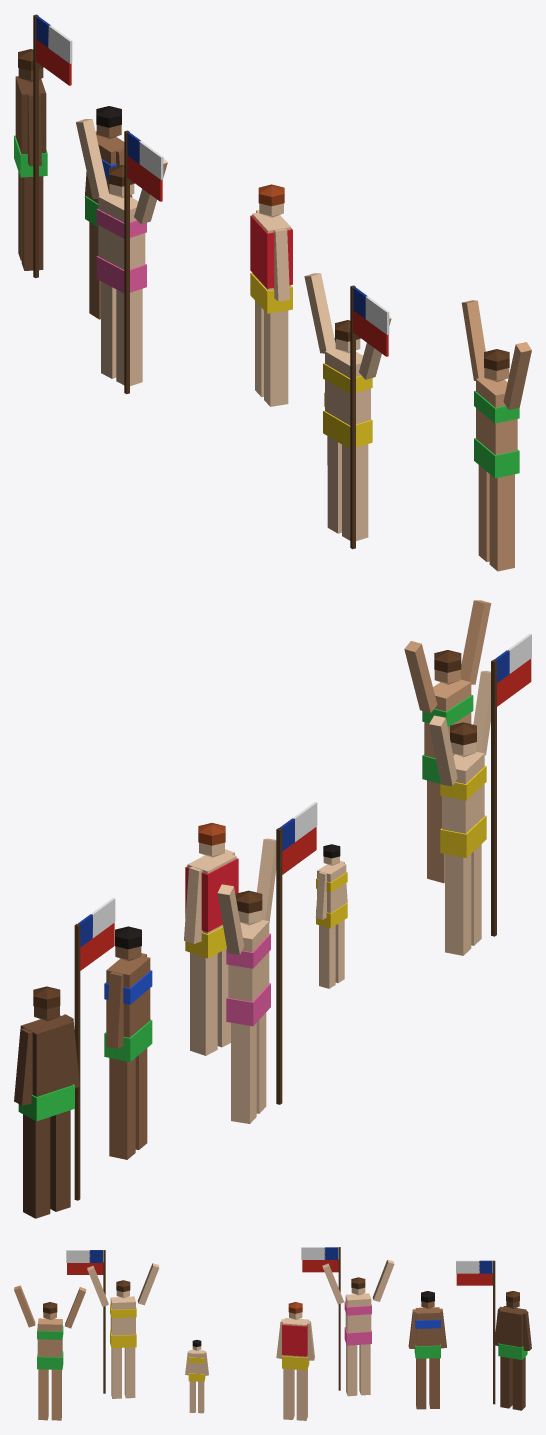
File: publico_playa_2.obj
The picture shows the model from 3 angles, top to bottom: view 1: azimuth 30°, elevation 25°; view 2: azimuth 150°, elevation 25°; view 3: azimuth 270°, elevation 25°; orthographic projection. The views are drawn at different scales.
Visible parts, largest first — view 1: publico_playa_2; view 2: publico_playa_2; view 3: publico_playa_2.
Part boxes in pixels (x1,y1,x2,y2): publico_playa_2: (14,14,531,571); publico_playa_2: (14,600,531,1218); publico_playa_2: (14,1247,531,1420).
Bounding box in the file's own units: 1.03 × 2.1 × 6.91.
